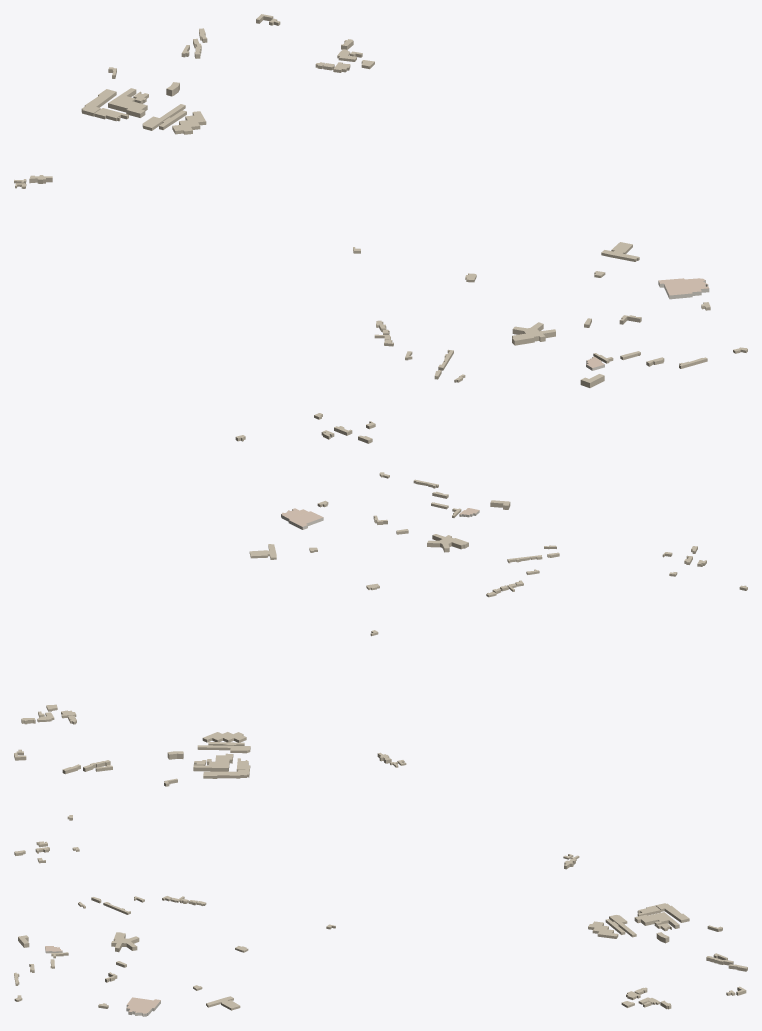
3 renders of one model, top to bottom at view 1: azimuth 30°, elevation 25°; view 2: azimuth 150°, elevation 25°; view 3: azimuth 270°, elevation 25°, orthographic. The views are drawn at different scales.
Size of the model in its own units: 1538 by 22.91 by 2414.
